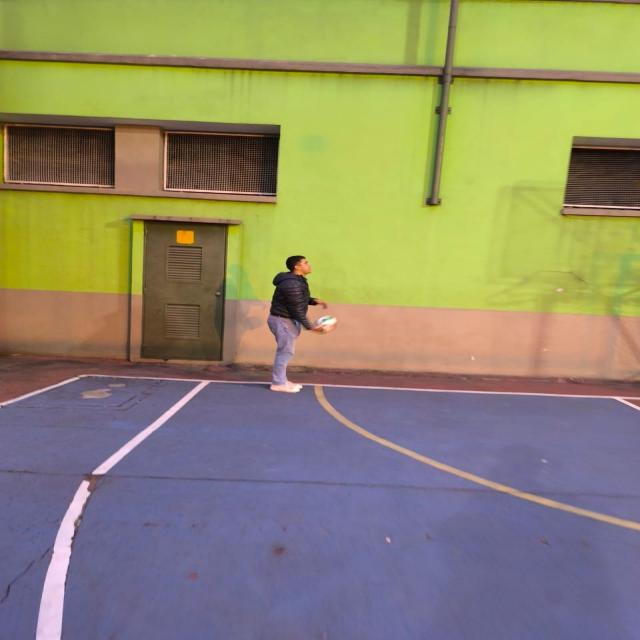volleyball: (314, 316, 339, 332)
